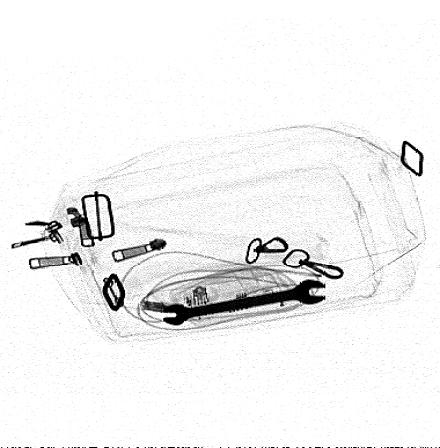Wrench: (163, 280, 326, 324)
